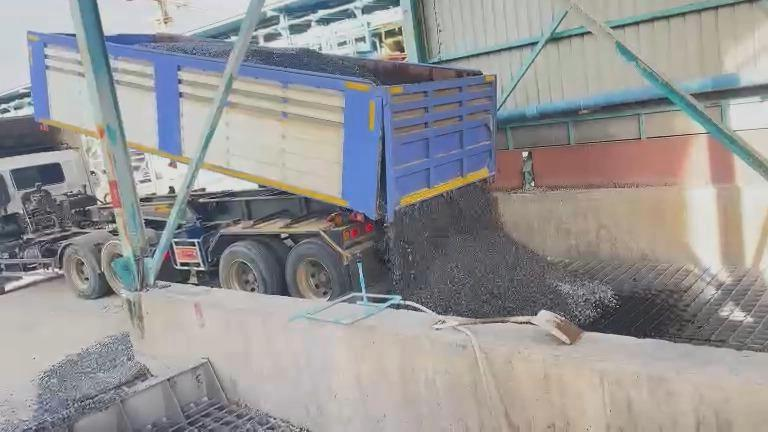gravel: (386, 184, 615, 323), (1, 333, 149, 430), (245, 44, 391, 84), (139, 40, 232, 58)
